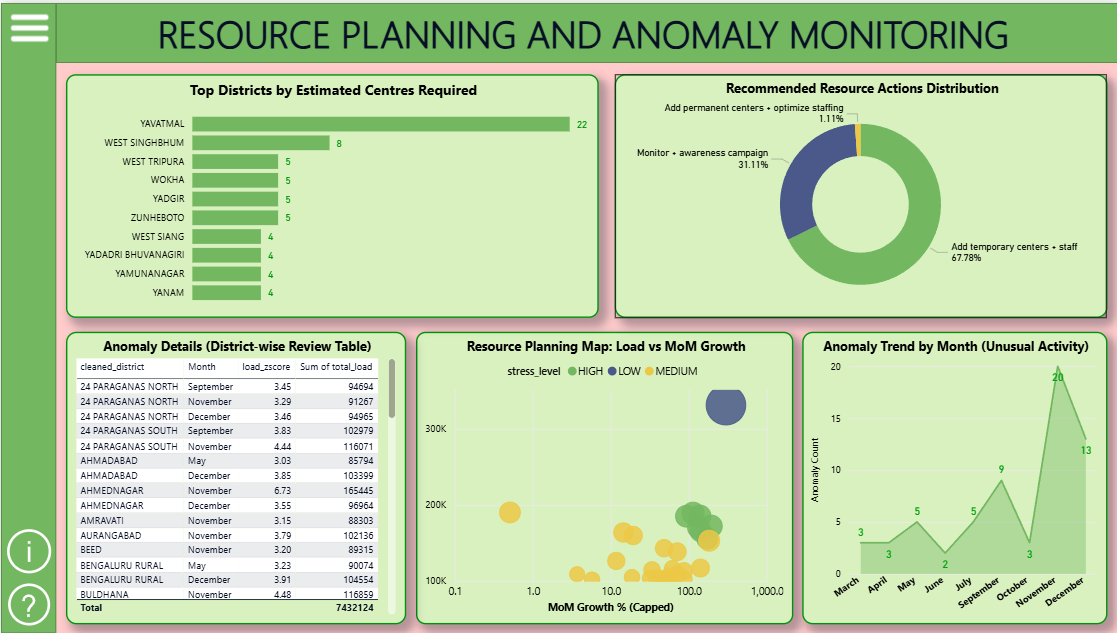

Layout of this report page (visuals, bound fields, positions):
{"tool":"powerbi","page":{"name":"Resource Planning and Anomaly Monitoring ","canvas":[1280,720],"ordinal":1},"visuals":[{"type":"shape","box":[0,0,63.1,720.4],"z":0},{"type":"group","id":"g1","title":"Menu bar","box":[0,0,65.9,720.4],"z":1000},{"type":"actionButton","title":"Ques","box":[1.4,654.3,61.4,65.7],"z":1000,"group":"g1"},{"type":"scatterChart","title":"Resource Planning Map: Load vs MoM Growth","fields":{"Y":["POWERBI_ops_table.Total Load"],"Series":["POWERBI_ops_table.stress_level"],"Size":["Sum(POWERBI_ops_table.stress_index)"],"X":["POWERBI_ops_table.Growth_Clamped"]},"box":[474.3,375.7,431.4,334.3],"z":2000},{"type":"actionButton","title":"Info","box":[0,592.9,64.3,67.1],"z":2000,"group":"g1"},{"type":"actionButton","title":"Menu","box":[4.3,0,61.4,57.1],"z":3000,"group":"g1"},{"type":"barChart","title":"Top Districts by Estimated Centres Required","fields":{"Category":["POWERBI_ops_table.cleaned_district"],"Y":["Sum(POWERBI_ops_table.centers_required_est)"]},"box":[74.3,81.4,608.6,278.6],"z":3000},{"type":"donutChart","title":"Recommended Resource Actions Distribution","fields":{"Category":["POWERBI_ops_table.resource_action"],"Y":["CountNonNull(POWERBI_ops_table.load_zscore)"]},"box":[701.4,81.4,562.9,278.6],"z":4000},{"type":"lineChart","title":"Anomaly Trend by Month (Unusual Activity)","fields":{"Category":["POWERBI_ops_table.month_year.Variation.Date Hierarchy.Month"],"Y":["POWERBI_ops_table.Anomaly Count"]},"box":[915.7,375.7,348.6,334.3],"z":5000},{"type":"tableEx","title":"Anomaly Details (District-wise Review Table)","fields":{"Values":["POWERBI_ops_table.cleaned_district","POWERBI_ops_table.month_year.Variation.Date Hierarchy.Month","POWERBI_ops_table.load_zscore","Sum(POWERBI_ops_table.total_load)"]},"box":[74.3,375.7,388.6,334.3],"z":6000},{"type":"shape","box":[62.9,0,1217.1,68.6],"z":7000},{"type":"textbox","box":[62.9,0,1217.1,68.6],"z":8000}]}

Visuals, with their boxes in screenshot pixels (x1, y1, x2, y2), scaled from the page's 1280x720 canvas onto the 1117x633 screenshot:
shape: locate(0, 0, 55, 632)
"Menu bar" group: locate(0, 0, 58, 632)
"Ques" actionButton: locate(1, 575, 55, 632)
"Resource Planning Map: Load vs MoM Growth" scatterChart: locate(414, 330, 790, 624)
"Info" actionButton: locate(0, 521, 56, 580)
"Menu" actionButton: locate(4, 0, 57, 50)
"Top Districts by Estimated Centres Required" barChart: locate(65, 72, 596, 316)
"Recommended Resource Actions Distribution" donutChart: locate(612, 72, 1103, 316)
"Anomaly Trend by Month (Unusual Activity)" lineChart: locate(799, 330, 1103, 624)
"Anomaly Details (District-wise Review Table)" tableEx: locate(65, 330, 404, 624)
shape: locate(55, 0, 1116, 60)
textbox: locate(55, 0, 1116, 60)
